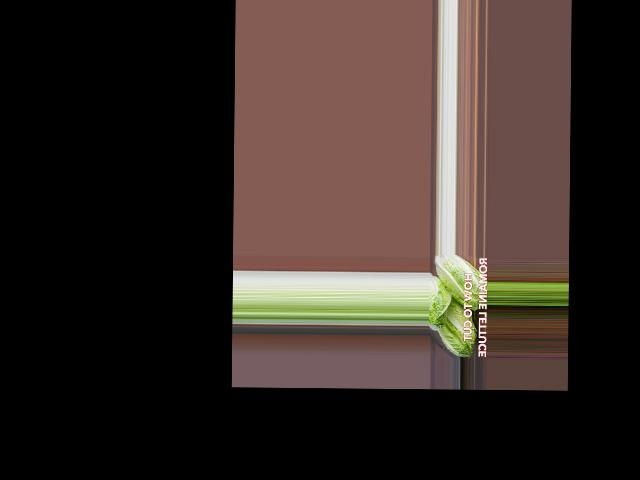lettuce: (433, 294, 481, 359)
